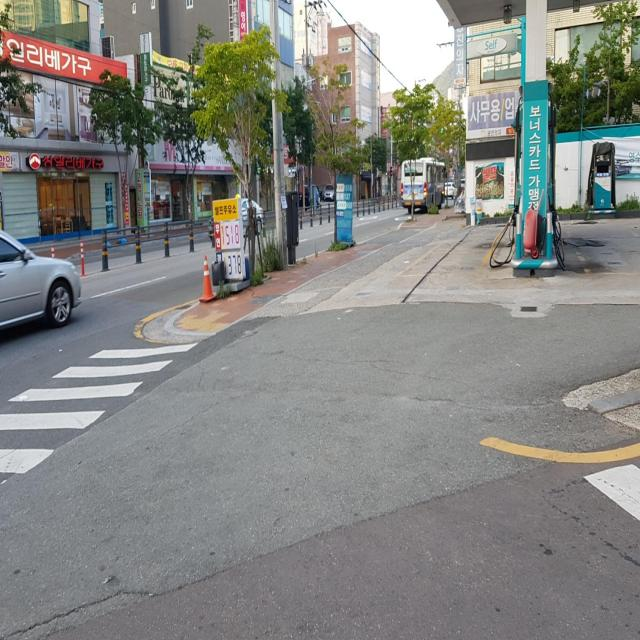횡단보도: (0, 341, 199, 477)
